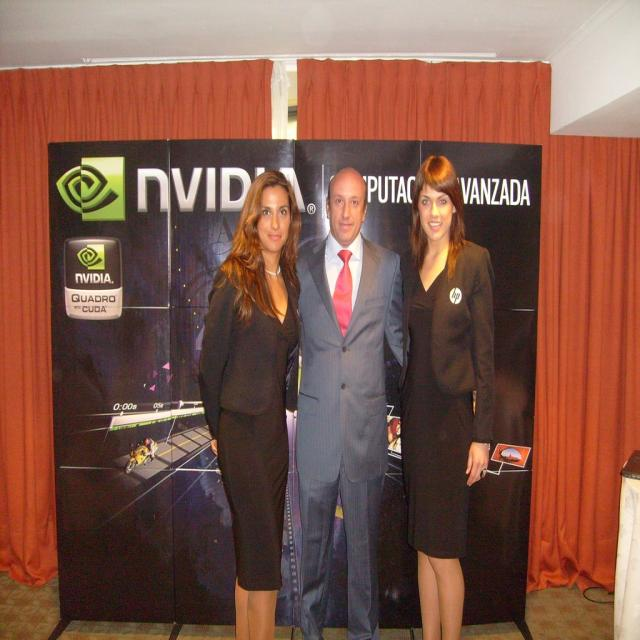nvidia: (56, 156, 128, 223), (77, 244, 107, 271)
